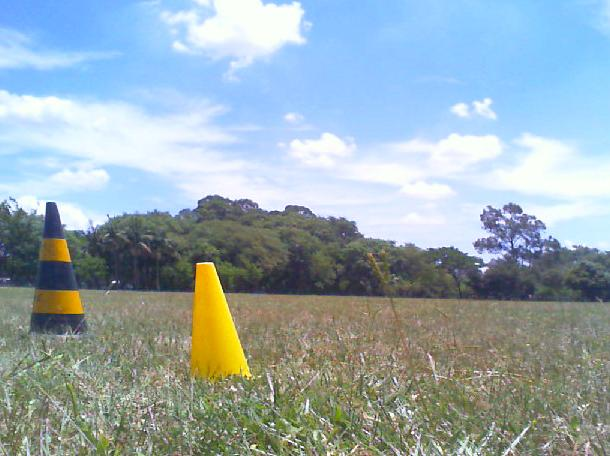0 cone: (27, 202, 98, 338), (187, 262, 260, 384)
